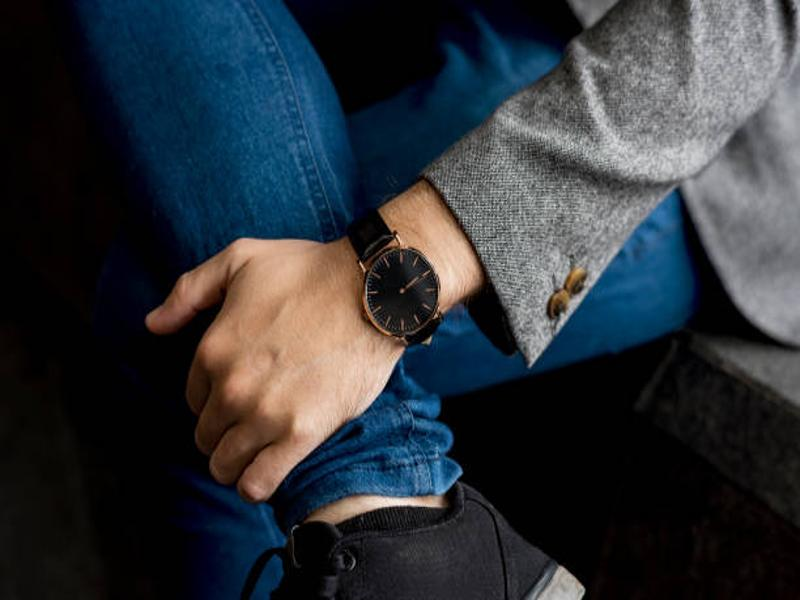watch: (347, 210, 445, 351)
